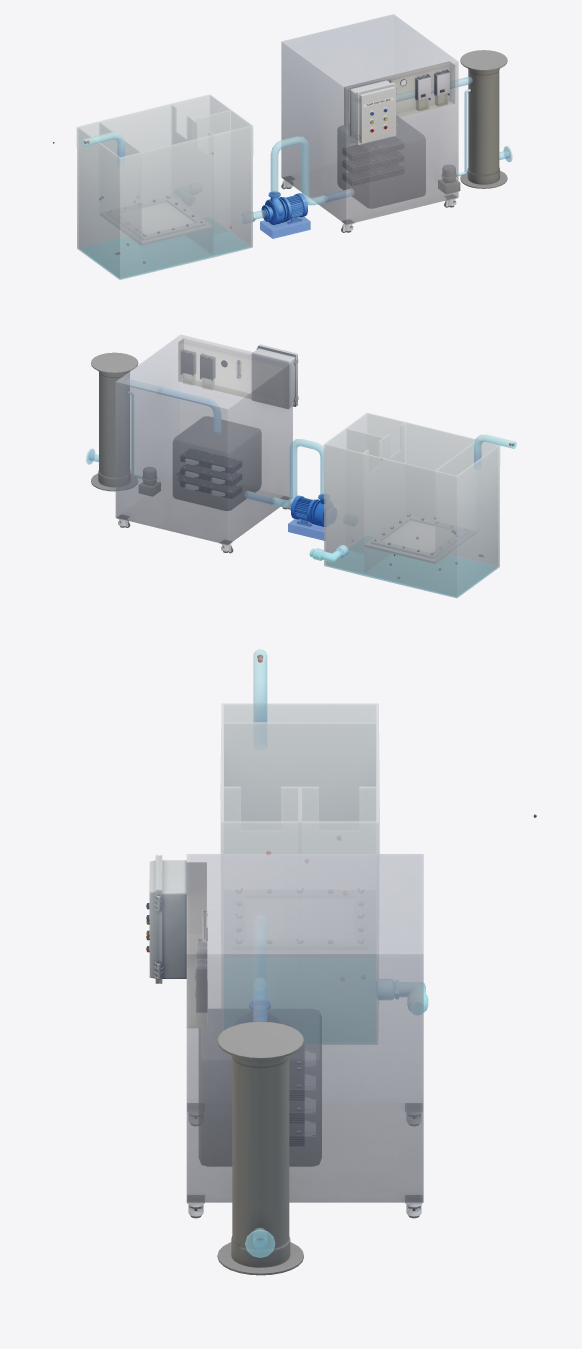
3 renders of one model, top to bottom at view 1: azimuth 30°, elevation 25°; view 2: azimuth 150°, elevation 25°; view 3: azimuth 270°, elevation 25°, orthographic. The views are drawn at different scales.
Parts seen in each view (by area): view 1: transparent_mesh, Strainer, water_fill_01, CtrllBox, Lauter_filter, Pump, SMPS, PUMP_floor, water_fill_02, Pump_small, Electrolyzer_main006, FootMaster (+3 smaller); view 2: transparent_mesh, Strainer, water_fill_01, CtrllBox, Lauter_filter, Pump, SMPS, water_fill_02, PUMP_floor, Pump_small, Electrolyzer_main006, Lauter_pump (+4 smaller); view 3: transparent_mesh, Strainer, CtrllBox, FootMaster, Lauter_pump, SMPS.
Part boxes in pixels (x1,y1,x2,y2): transparent_mesh: (76, 14, 512, 279); Strainer: (460, 50, 507, 188); water_fill_01: (79, 236, 211, 278); CtrllBox: (350, 80, 396, 144); Lauter_filter: (101, 196, 212, 245); Pump: (261, 191, 307, 224); SMPS: (415, 69, 449, 100); PUMP_floor: (260, 216, 310, 238); water_fill_02: (185, 231, 250, 256); Pump_small: (438, 164, 460, 193); Electrolyzer_main006: (342, 143, 377, 160); FootMaster: (281, 176, 457, 232); transparent_mesh: (86, 334, 516, 598); Strainer: (91, 352, 138, 491); water_fill_01: (365, 554, 497, 597); CtrllBox: (251, 344, 297, 408); Lauter_filter: (364, 514, 475, 563); Pump: (290, 494, 325, 526); SMPS: (180, 349, 215, 380); water_fill_02: (326, 550, 391, 574); PUMP_floor: (288, 519, 324, 540); Pump_small: (139, 467, 160, 496); Electrolyzer_main006: (207, 455, 241, 473); Lauter_pump: (309, 545, 348, 562); transparent_mesh: (186, 649, 423, 1257); Strainer: (217, 1021, 303, 1275); CtrllBox: (149, 855, 186, 983); FootMaster: (187, 1103, 422, 1218); Lauter_pump: (376, 979, 428, 1015); SMPS: (195, 942, 207, 1012).
Bounding box in the file's own units: 12.67 × 3.34 × 6.24.
Materials: 7 (2 with a texture image).
